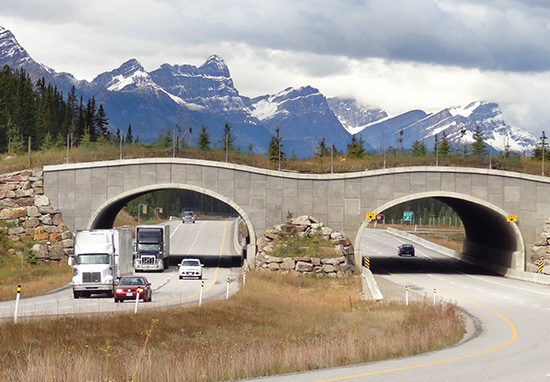bridge: (345, 151, 550, 281), (41, 137, 250, 261)
